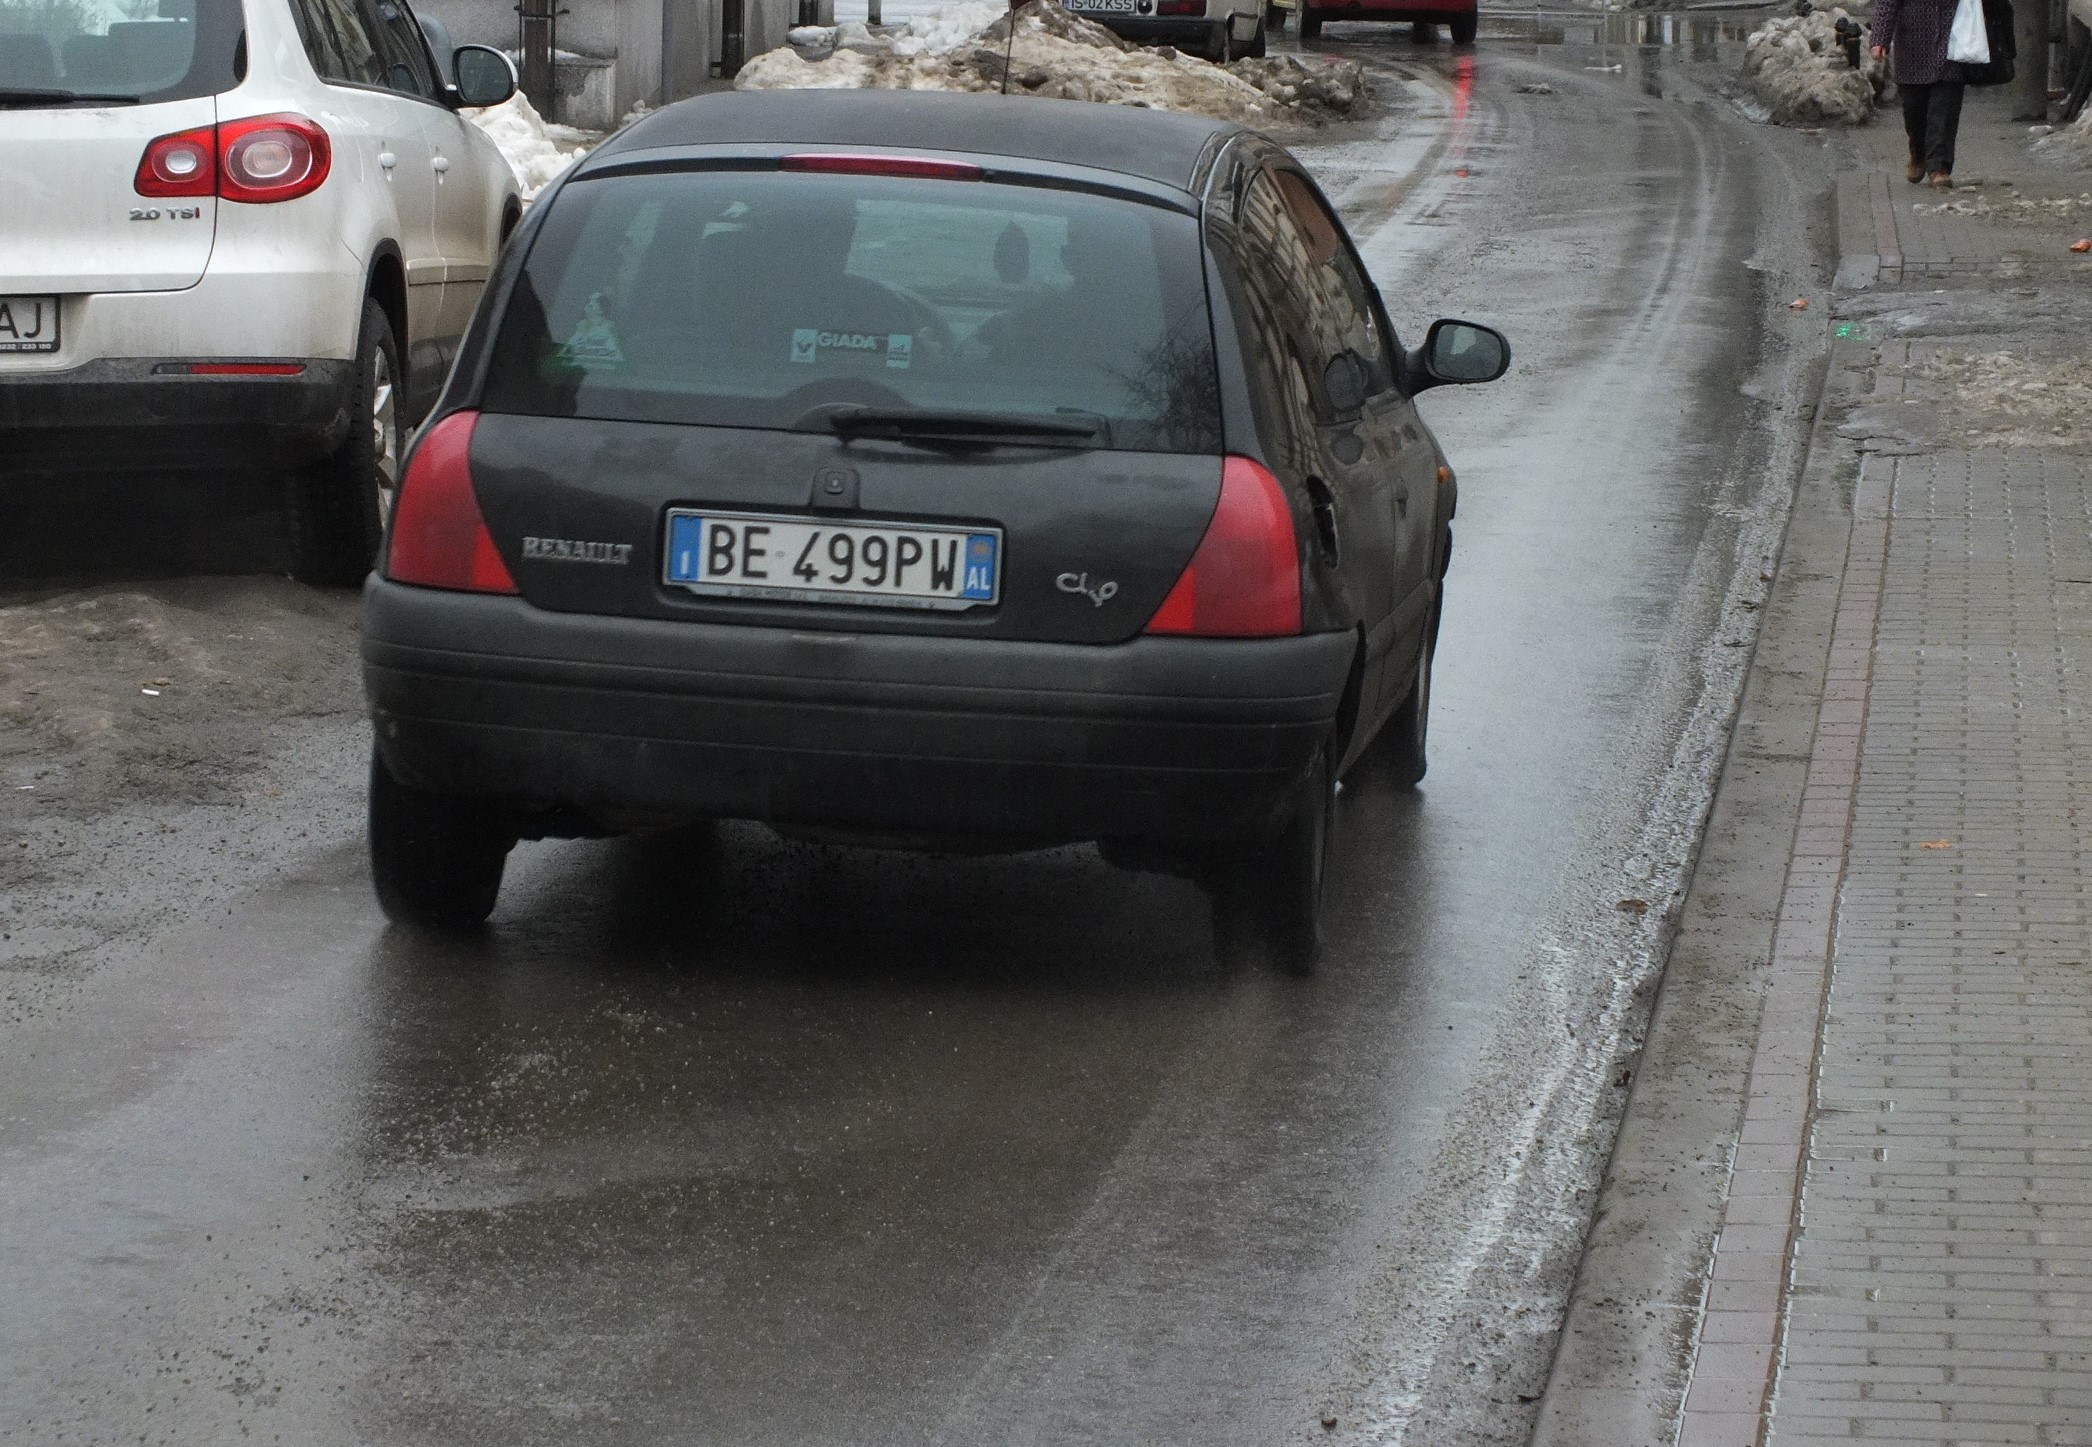BE499PW: (670, 518, 996, 597)
